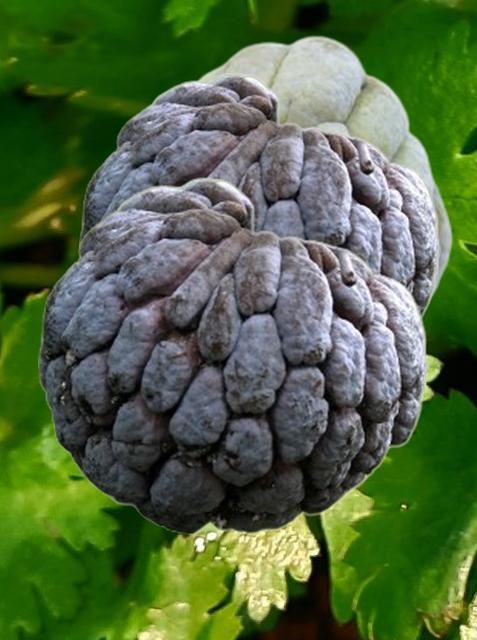atis: (38, 176, 427, 533), (79, 72, 439, 316), (197, 34, 452, 310)
